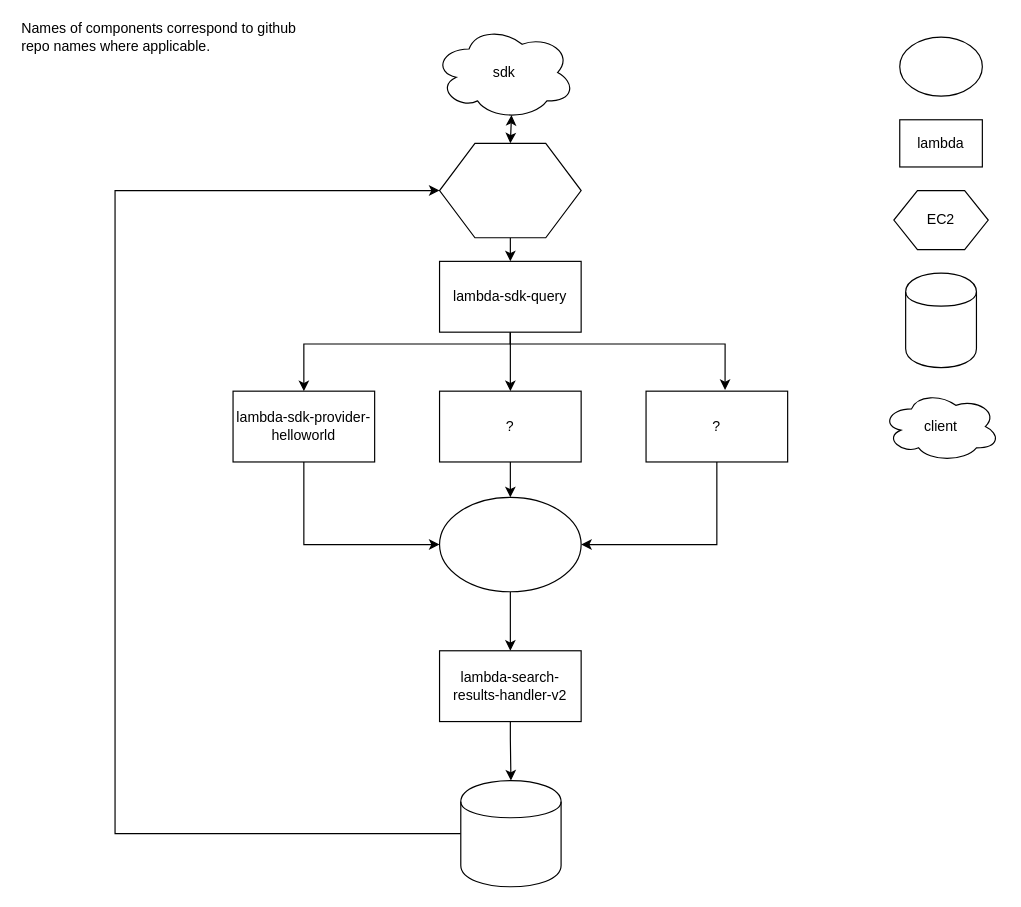
Image size: 1021x907. Some labels were removed from this diagram. Each missing label, with the box of its shape:
redis: (904, 272, 976, 368)
redis-pubsub: (460, 779, 561, 887)
sdk-backend: (438, 142, 581, 238)
sdk-resultstream: (438, 496, 581, 592)
SNS: (899, 36, 982, 96)
